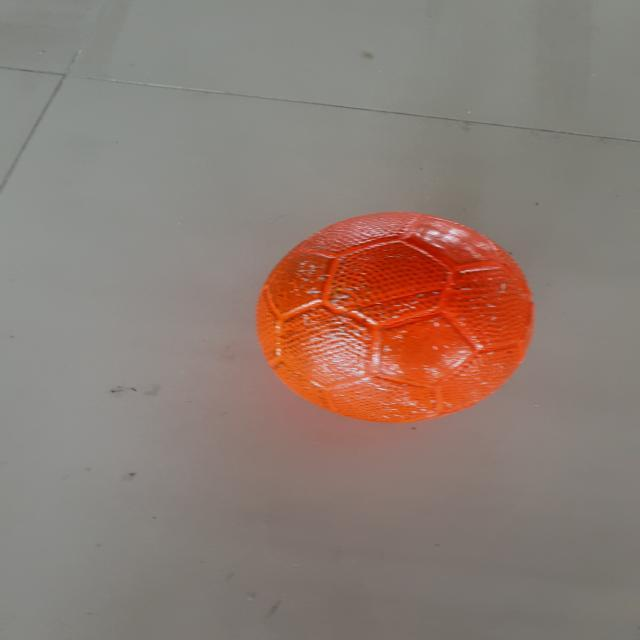bola: (253, 204, 534, 424)
